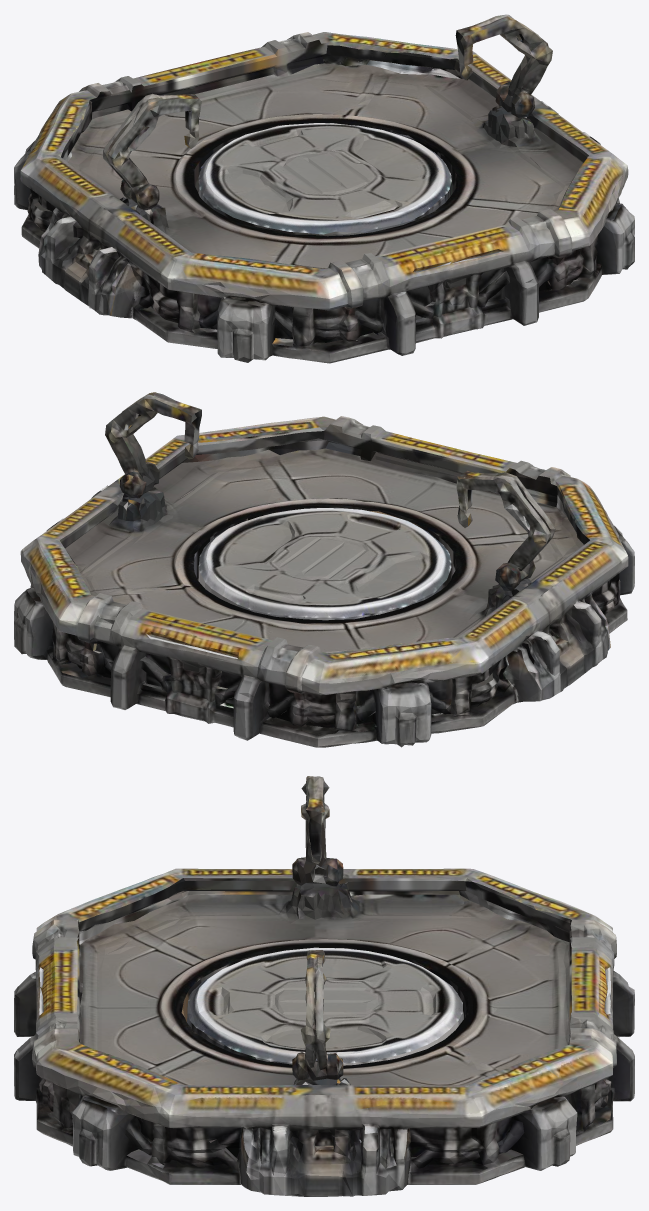
3 views of the same model, one above another, from view 1: azimuth 30°, elevation 25°; view 2: azimuth 150°, elevation 25°; view 3: azimuth 270°, elevation 25° (orthographic). The views are drawn at different scales.
Parts seen in each view (by area): view 1: tmpv1h014an.ply; view 2: tmpv1h014an.ply; view 3: tmpv1h014an.ply.
Part boxes in pixels (x1,y1,x2,y2): tmpv1h014an.ply: (14, 14, 634, 363); tmpv1h014an.ply: (14, 392, 634, 747); tmpv1h014an.ply: (14, 776, 634, 1196).
Size of the model in its own units: 1 by 0.3503 by 0.9893.
Materials: 1 (1 with a texture image).
